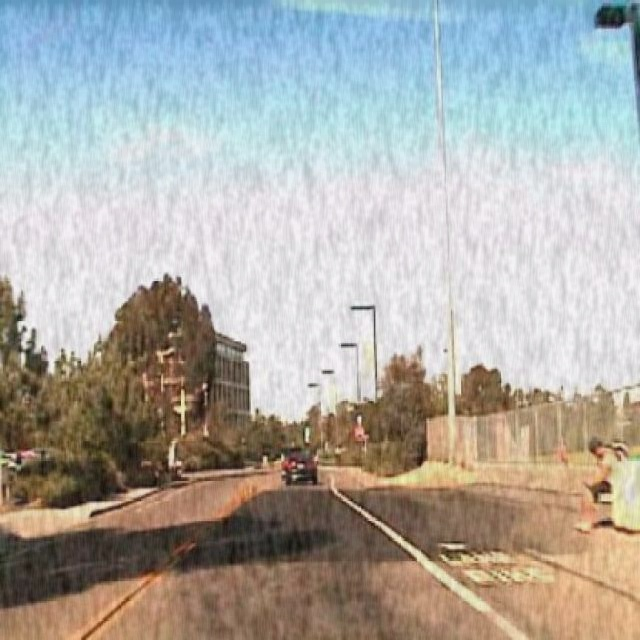stop: (354, 424, 364, 438)
